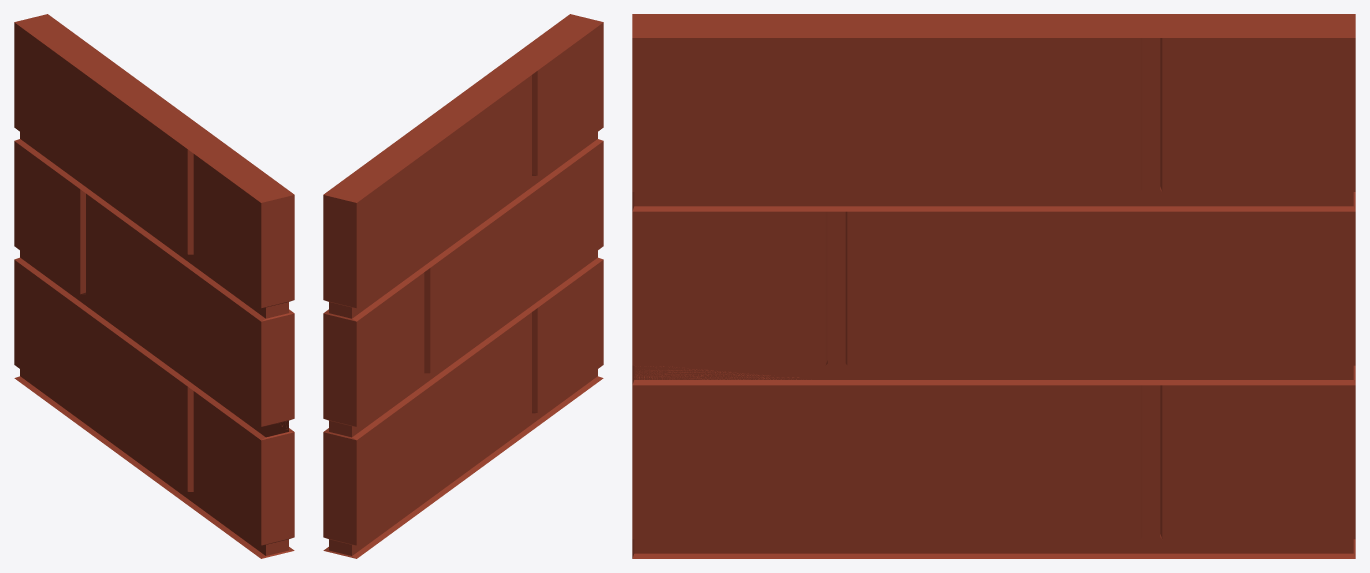
File: Brick Wall.obj
3 views of the same model, side by side, from view 1: azimuth 30°, elevation 25°; view 2: azimuth 150°, elevation 25°; view 3: azimuth 270°, elevation 25° (orthographic). The views are drawn at different scales.
Parts seen in each view (by area): view 1: Cube.003; view 2: Cube.003; view 3: Cube.003.
Part boxes in pixels (left/top/right/bottom): Cube.003: left=14, top=14, right=294, bottom=558; Cube.003: left=323, top=14, right=603, bottom=558; Cube.003: left=632, top=14, right=1355, bottom=558.
Bounding box in the file's own units: 0.3145 × 3.18 × 4.
